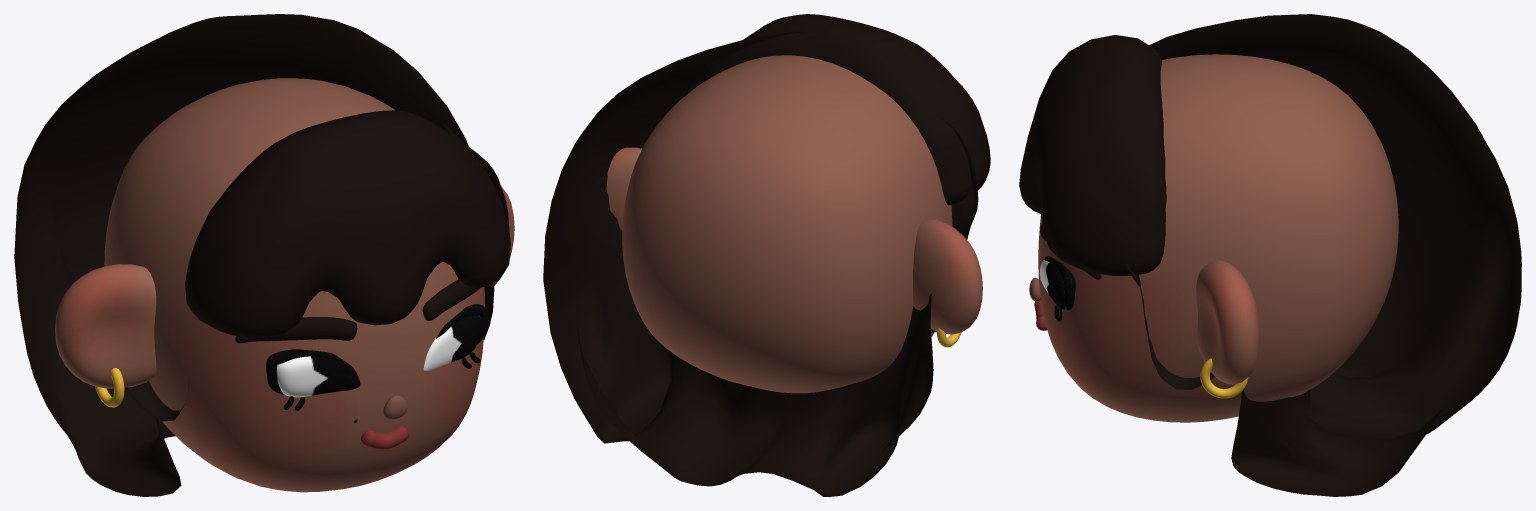
The model's file is chibi-contente.glb.
3 renders of one model, left to right at view 1: azimuth 30°, elevation 25°; view 2: azimuth 150°, elevation 25°; view 3: azimuth 270°, elevation 25°, orthographic. The views are drawn at different scales.
Visible parts, largest first — view 1: head.001, back.001, bangs.002, ears.001, eyes.001, brows.001, top lashes.001, mouth.001, earrings.001; view 2: head.001, back.001, bangs.002, ears.001; view 3: head.001, back.001, bangs.002, ears.001, eyes.001, earrings.001, top lashes.001.
Boxes of the visible parts, bbox=[...] form: head.001: bbox=[104, 78, 484, 492]; back.001: bbox=[14, 14, 509, 496]; bangs.002: bbox=[185, 110, 510, 337]; ears.001: bbox=[55, 186, 514, 388]; eyes.001: bbox=[276, 315, 481, 397]; brows.001: bbox=[235, 279, 479, 343]; top lashes.001: bbox=[266, 304, 486, 394]; mouth.001: bbox=[361, 426, 408, 449]; earrings.001: bbox=[95, 368, 124, 407]; head.001: bbox=[622, 55, 952, 393]; back.001: bbox=[543, 31, 978, 496]; bangs.002: bbox=[699, 14, 990, 205]; ears.001: bbox=[606, 147, 982, 334]; head.001: bbox=[1038, 54, 1398, 422]; back.001: bbox=[1124, 14, 1521, 496]; bangs.002: bbox=[1019, 35, 1166, 275]; ears.001: bbox=[1196, 260, 1259, 384]; eyes.001: bbox=[1040, 260, 1066, 309]; earrings.001: bbox=[1200, 358, 1248, 398]; top lashes.001: bbox=[1044, 256, 1075, 310].
Size of the model in its own units: 2.16 by 1.95 by 2.23.
7 materials, 3 textured.
